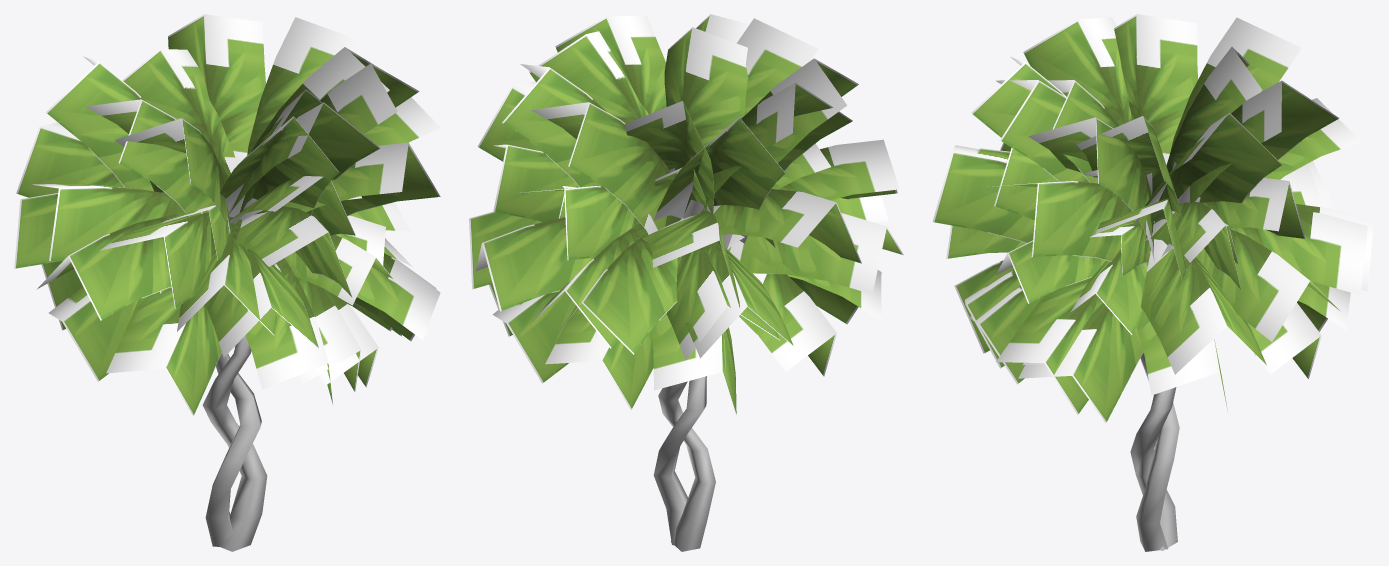
The model's file is TreePalm.fbx.
3 views of the same model, side by side, from view 1: azimuth 30°, elevation 25°; view 2: azimuth 150°, elevation 25°; view 3: azimuth 270°, elevation 25° (orthographic).
Parts seen in each view (by area): view 1: plants_10_wood; view 2: plants_10_wood; view 3: plants_10_wood.
Part boxes in pixels (bbox=[...]): plants_10_wood: bbox=[14, 14, 440, 551]; plants_10_wood: bbox=[469, 14, 903, 551]; plants_10_wood: bbox=[932, 14, 1374, 551].
Bounding box in the file's own units: 446 × 526 × 437.
